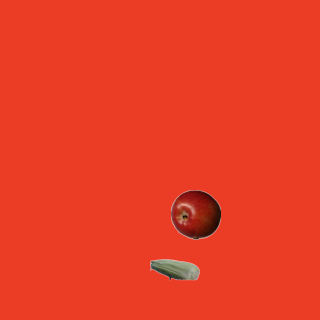Apple Braeburn: (170, 189, 220, 239)
Corn Husk: (149, 244, 199, 294)
